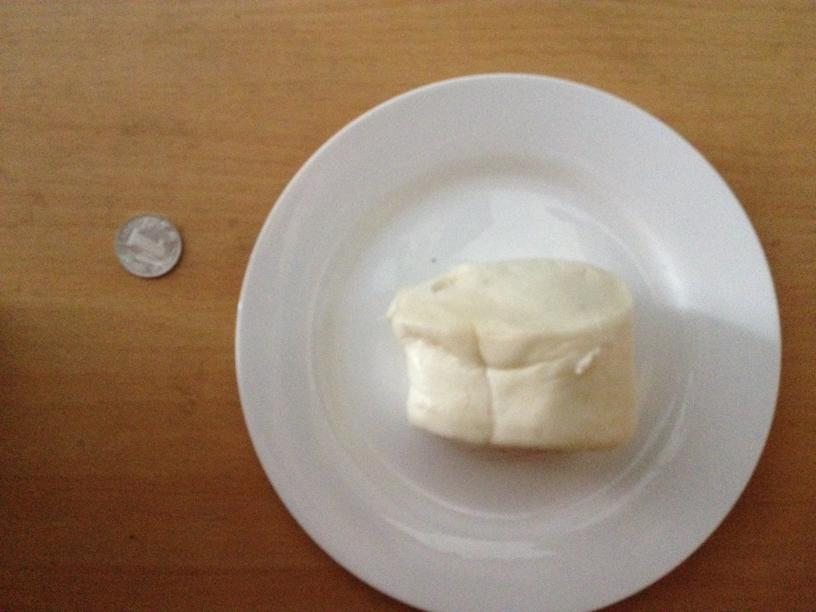bun: (386, 262, 637, 447)
coin: (114, 214, 181, 280)
